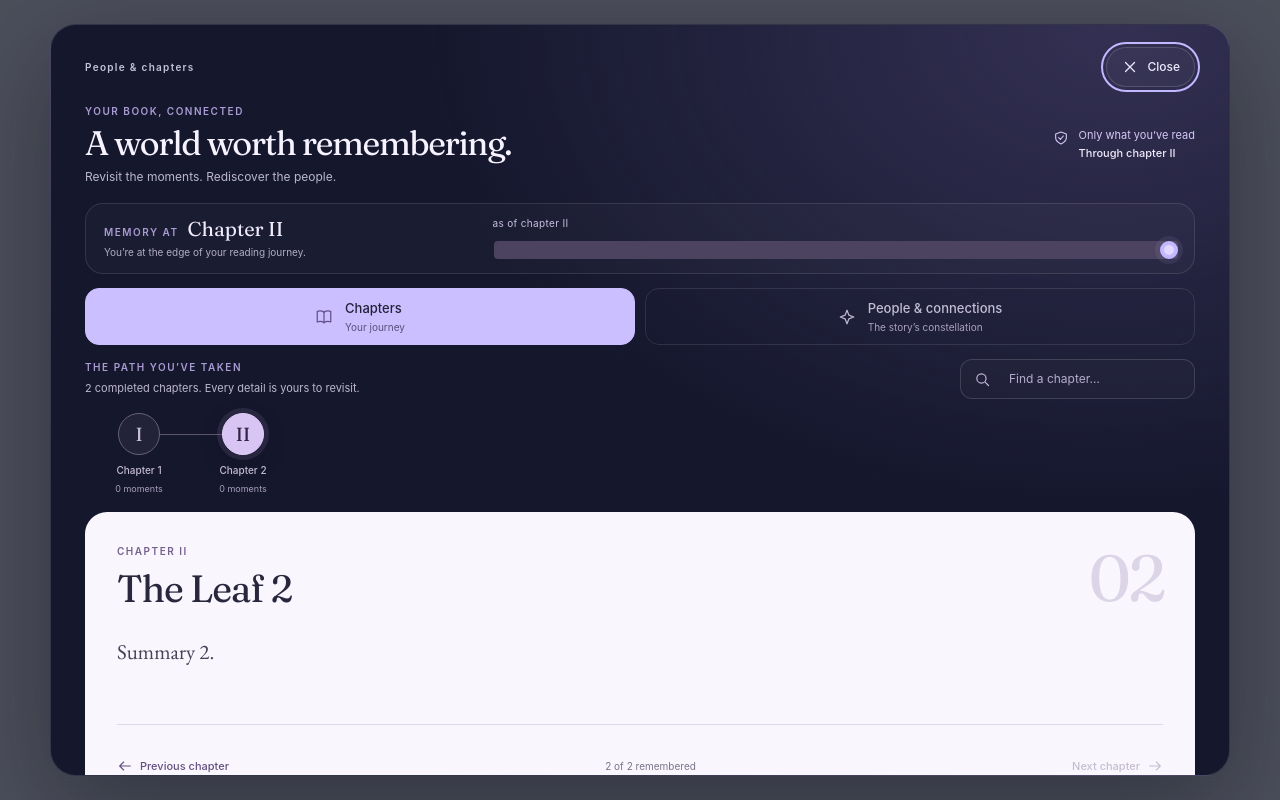
Test case: Codex › a memory failure preserves chapter navigation and can be retried
Expected: the button with aria-label "The Leaf 1" is shown, [87,413,191,495]
Click the tab "People & connections" at point(920, 317), box [645,288,1195,345]
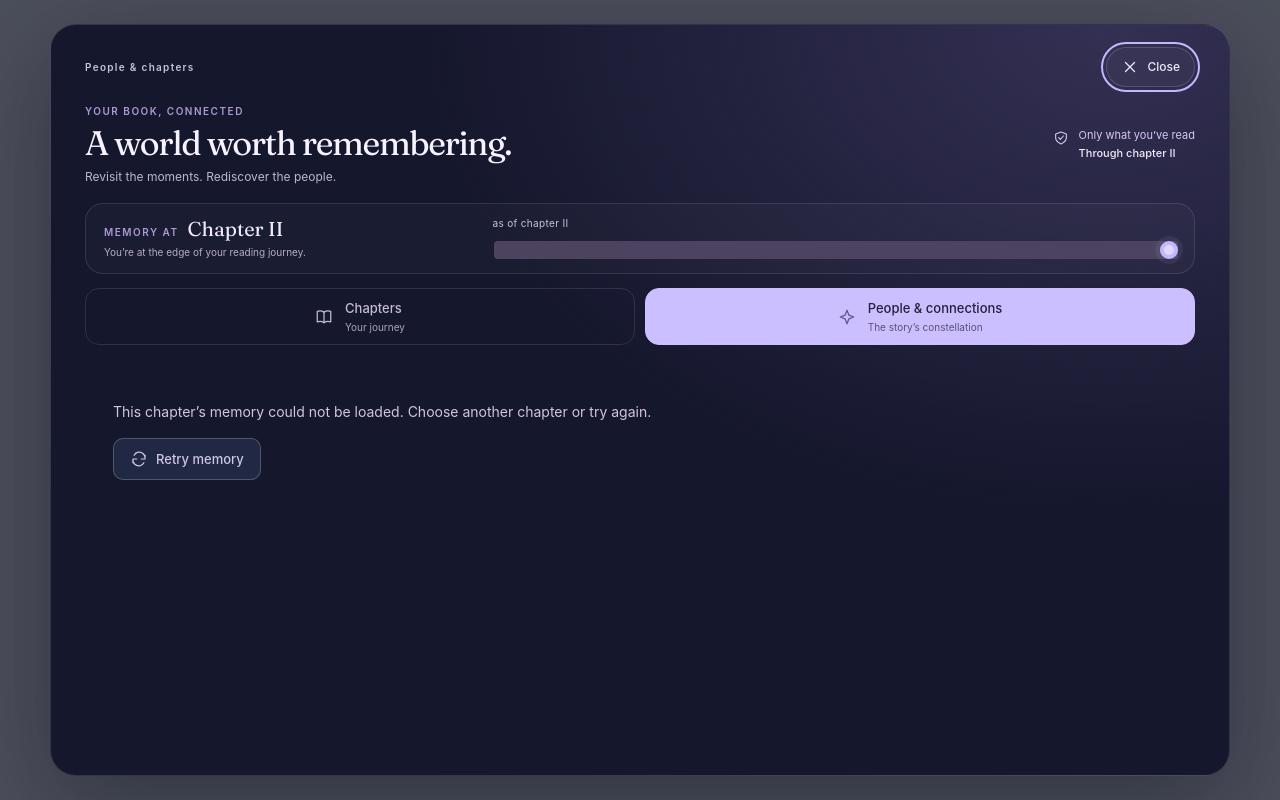
Click the button "Retry memory" at point(187, 459), box [113,438,261,480]
(page scrolled)
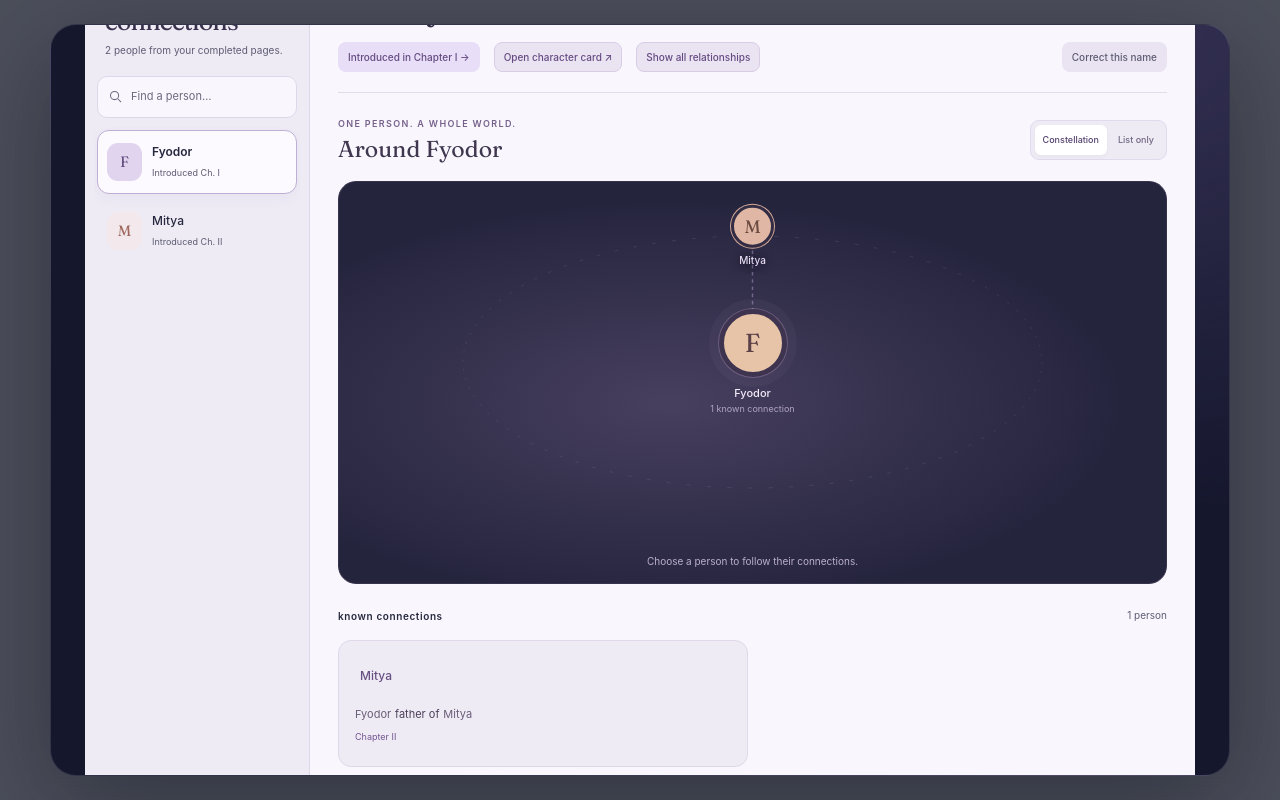
Now the navigation bar named "cast index" is shown, box [85,24,310,776]
